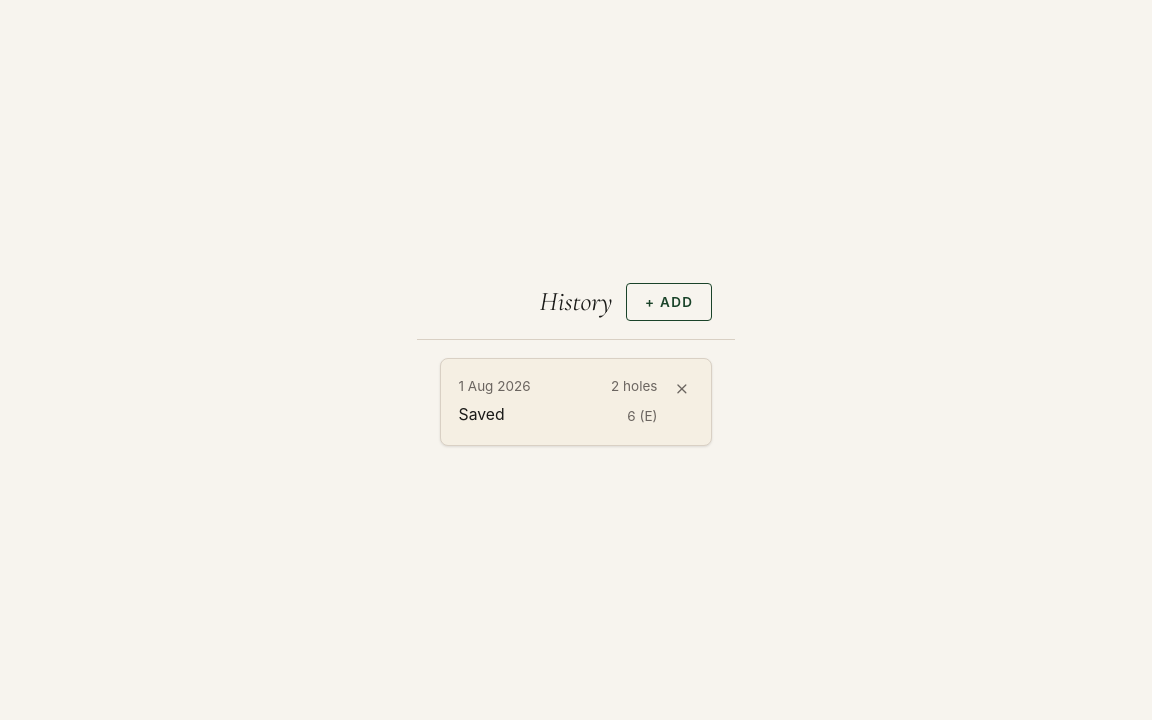
it: History - deleting a saved round is unchanged › keeps the row and says so in the sheet when the server fails
Click the button named "Delete round" at (682, 389), box [658,364,707,413]
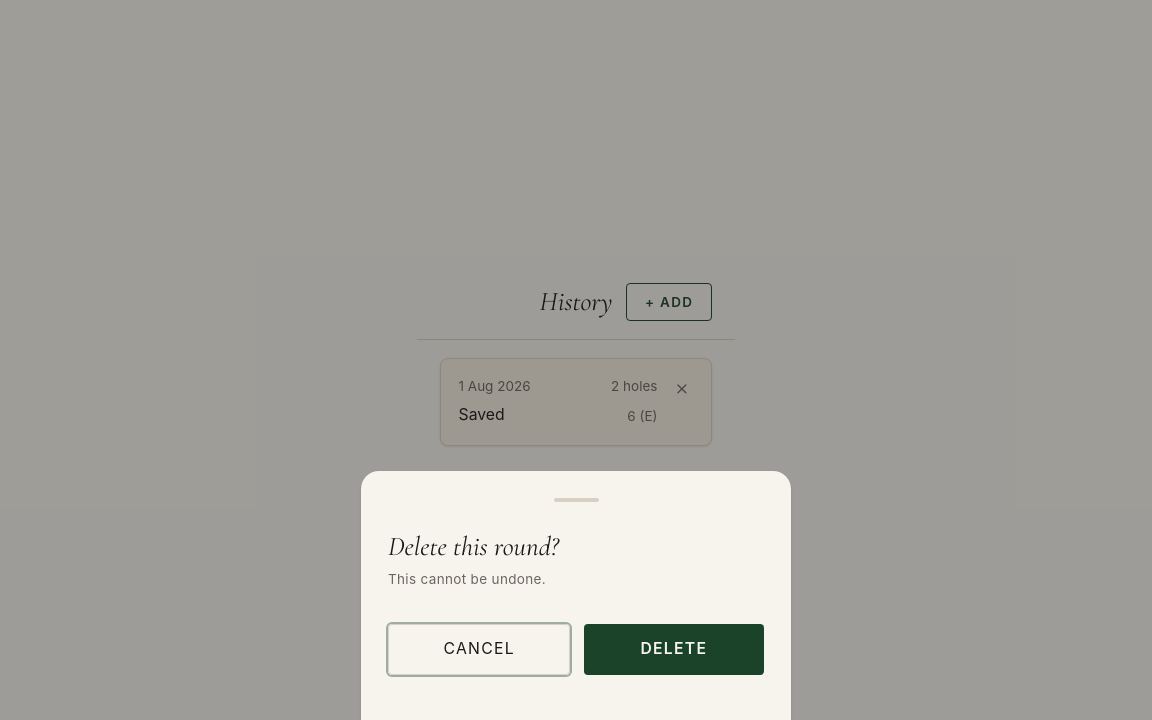
Click the button "Delete" at (674, 649), box [584,624,764,675]
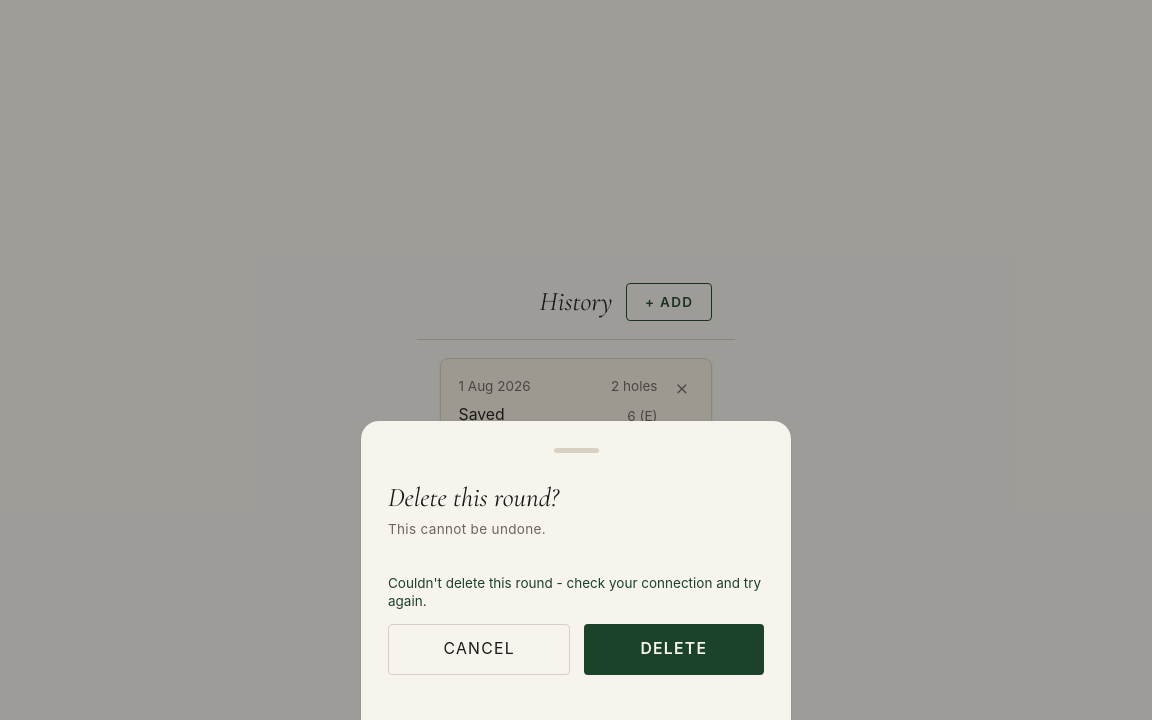
Check: the number of buttons named "Open round" is 1, box [440,359,711,445]
Check: the message shows "Couldn't delete this round", box [388,575,761,609]
